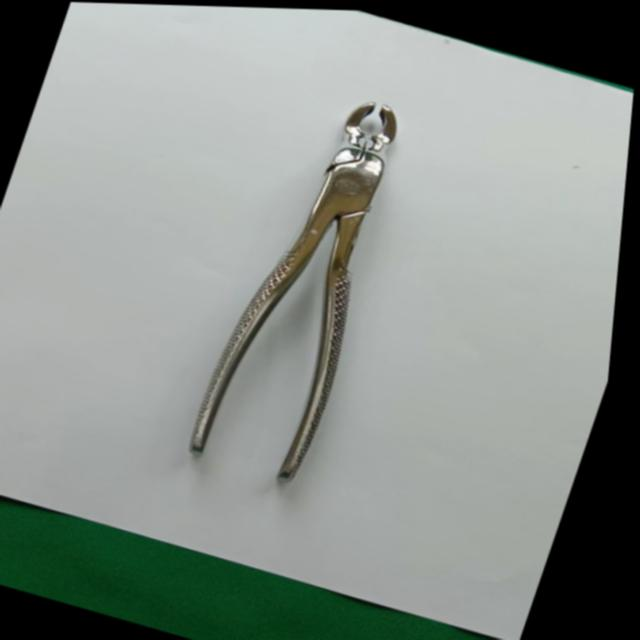BayonetForcep: (166, 69, 443, 495)
